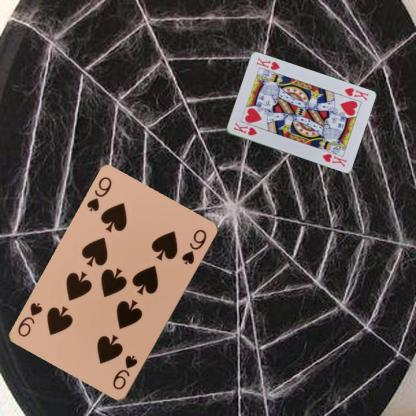9s: (110, 353, 139, 392), (84, 174, 113, 213)
Kh: (341, 85, 370, 102), (231, 120, 258, 137)
